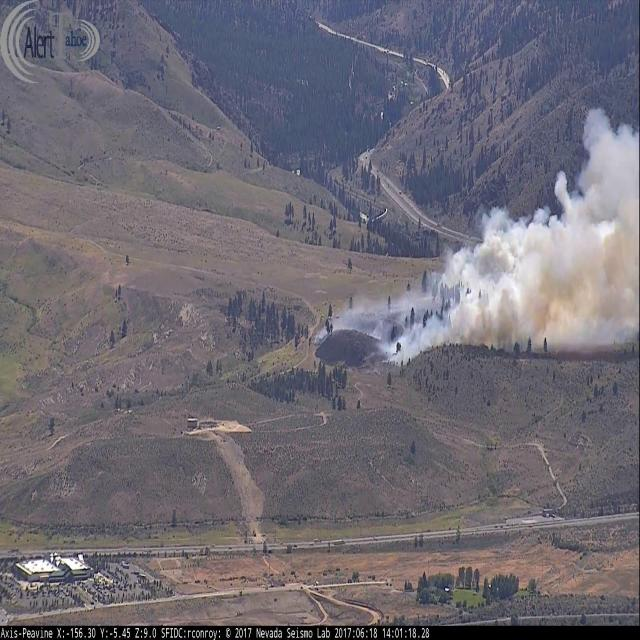smoke: (318, 90, 640, 384)
